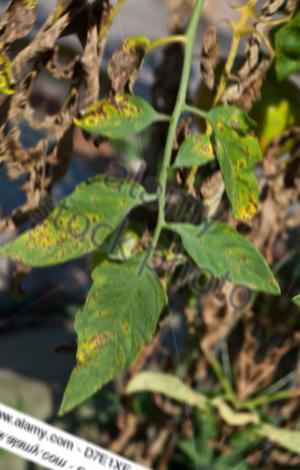Tomato Septoria leaf spot: (29, 227, 194, 444), (0, 135, 148, 306), (167, 87, 300, 228), (156, 197, 300, 319), (63, 70, 176, 166)
